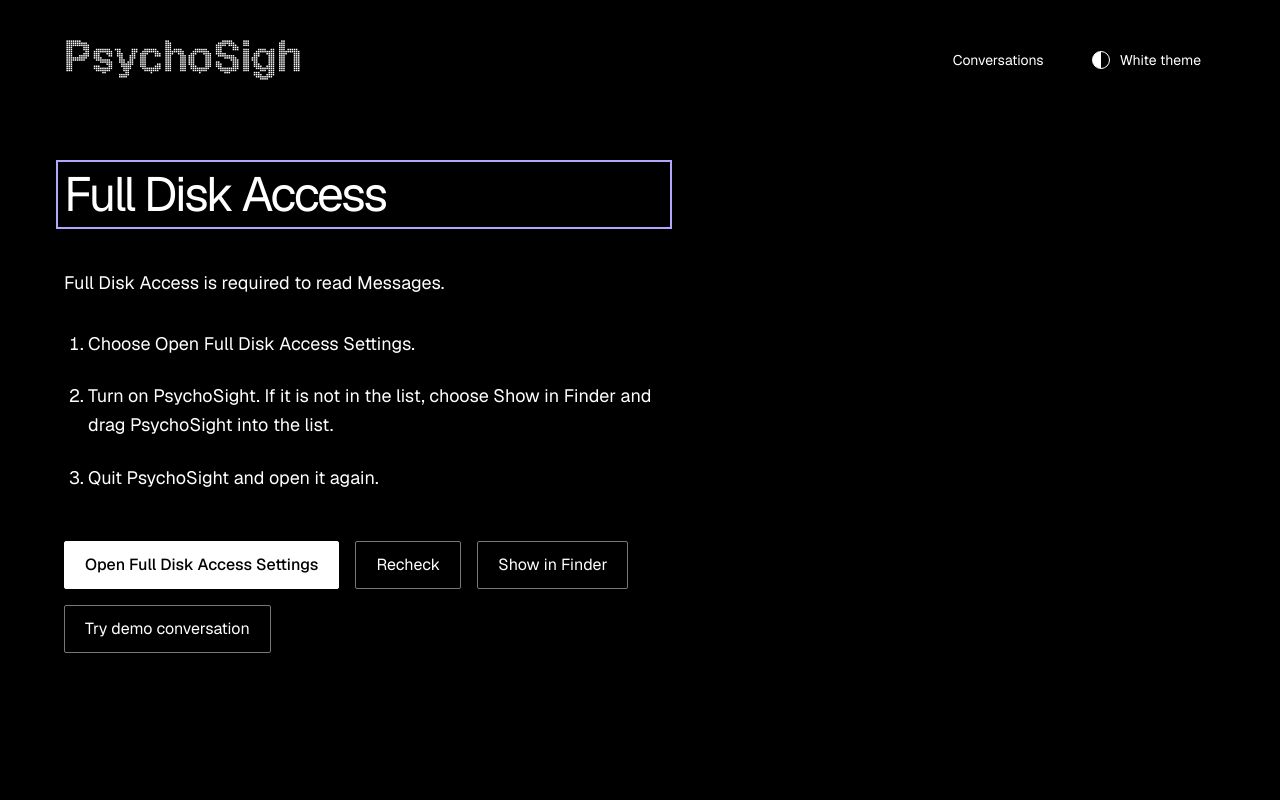
supporting app recovery › preserves native access callbacks and refreshes catalog after a granted recheck
This screenshot has width=1280, height=800.
Click the button "Open Full Disk Access Settings".
click(202, 565)  # box [64,541,339,589]
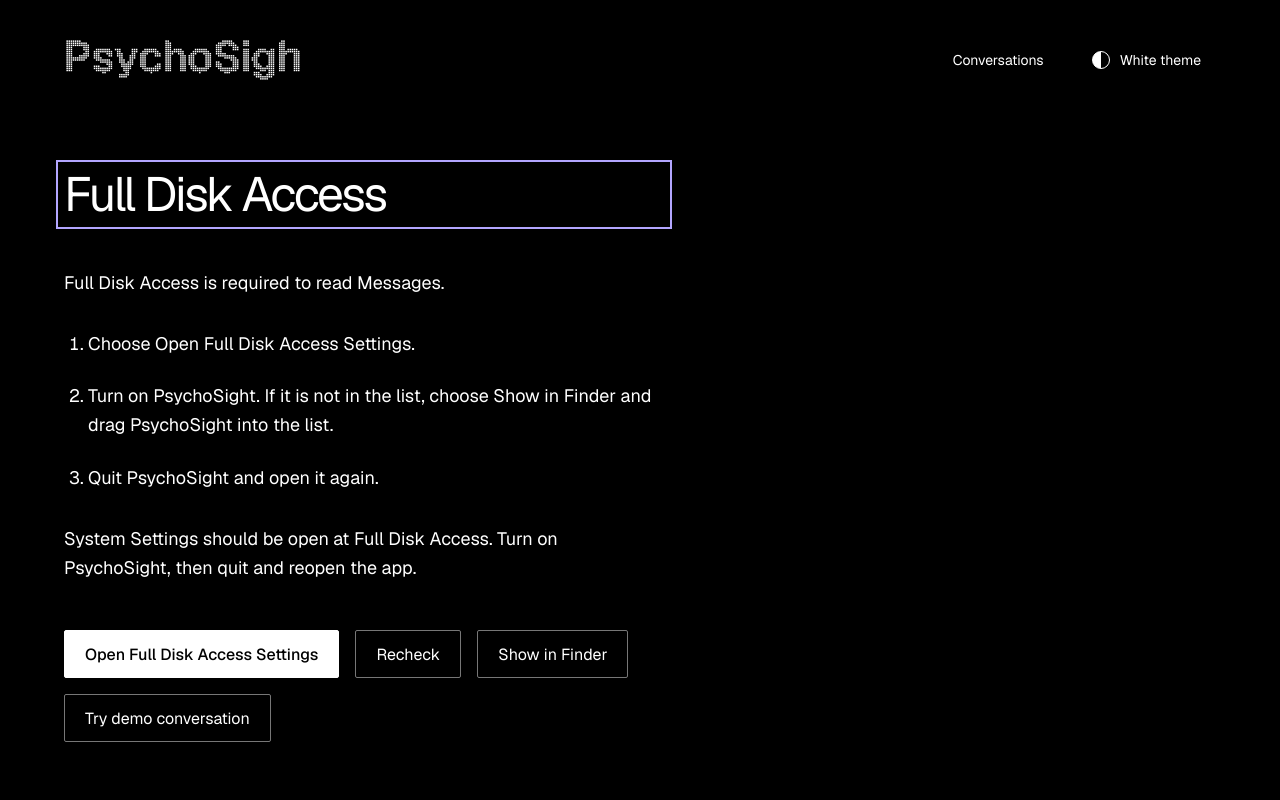
Check: the text "System Settings should be open" is shown, box [64,527,558,579]
Click the button "Show in Finder".
click(553, 654)  # box [477,630,628,678]
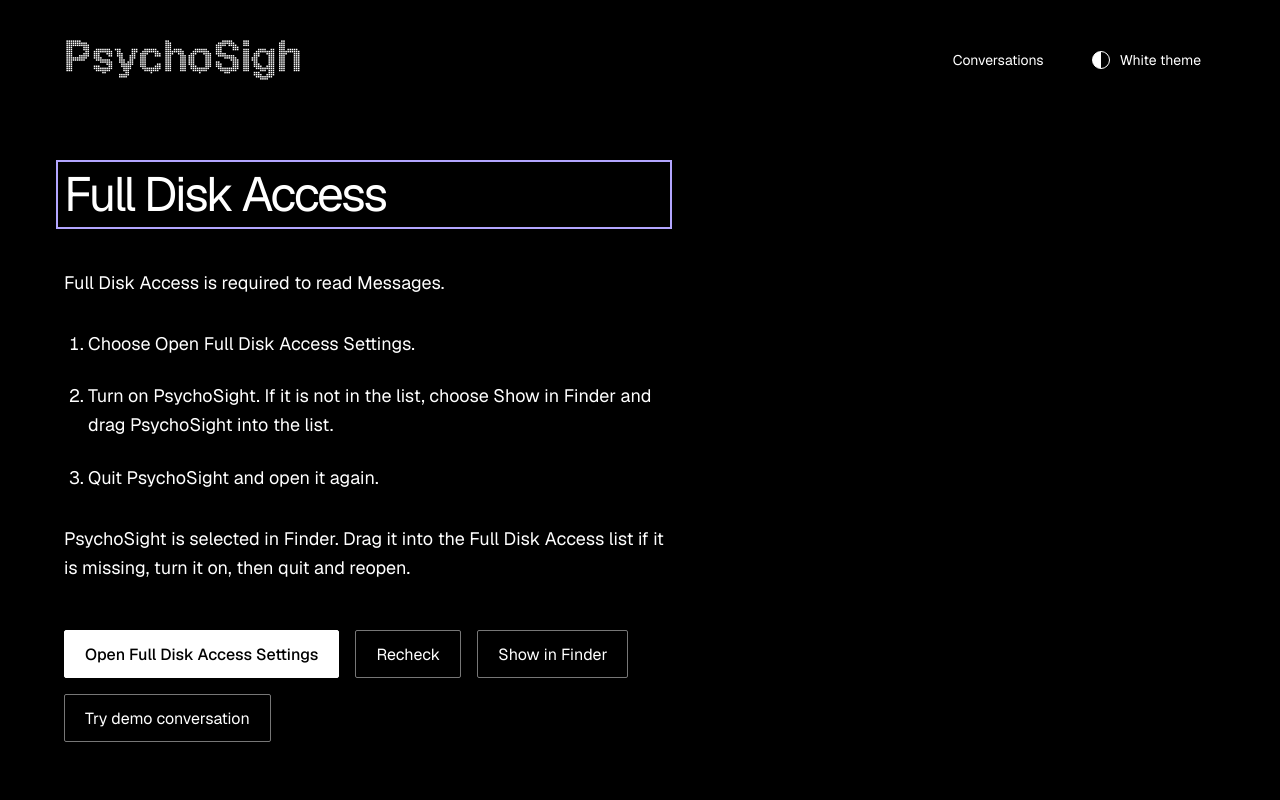
Check: the text "PsychoSight is selected in Finder" is shown, box [64,527,664,579]
Click the button "Recheck".
click(408, 654)  # box [355,630,461,678]
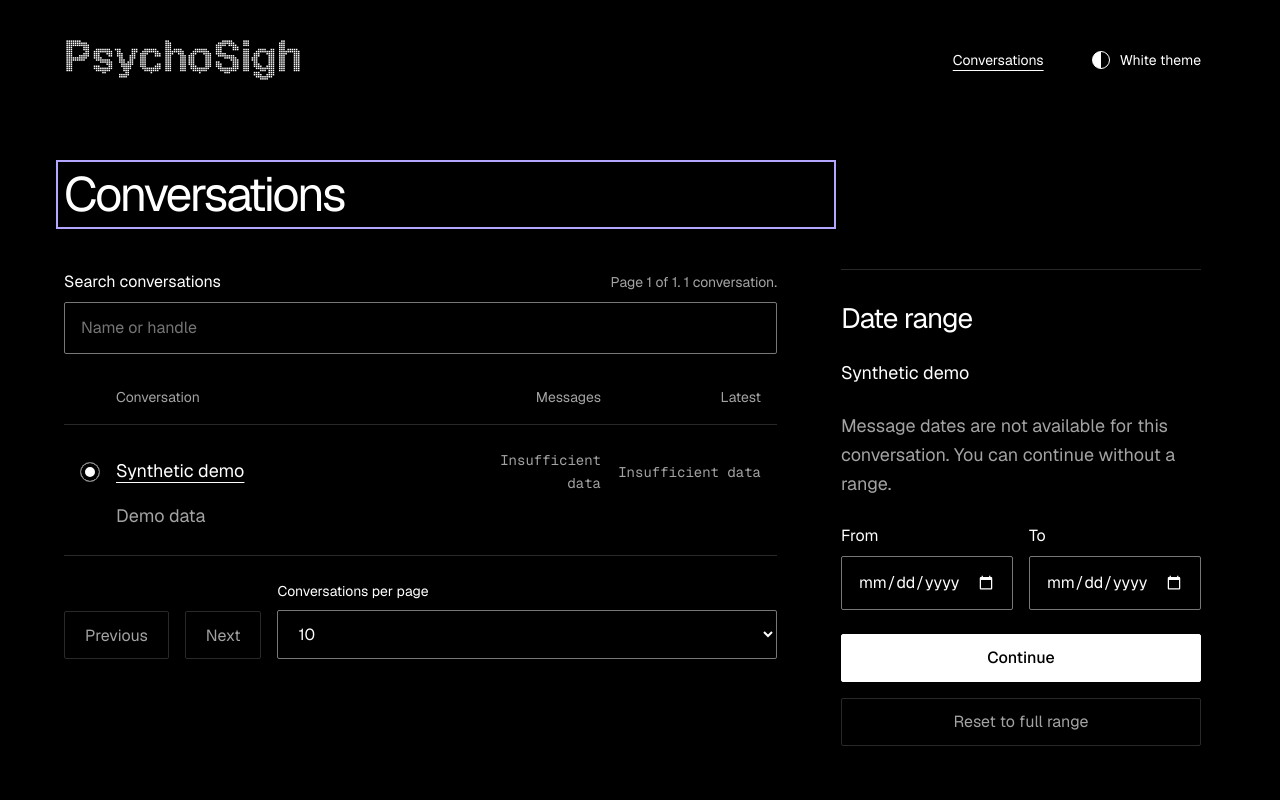
Check: the radio button labelled "Synthetic demo Insufficient data Insufficient data Demo data" is shown, box [80,462,100,482]
